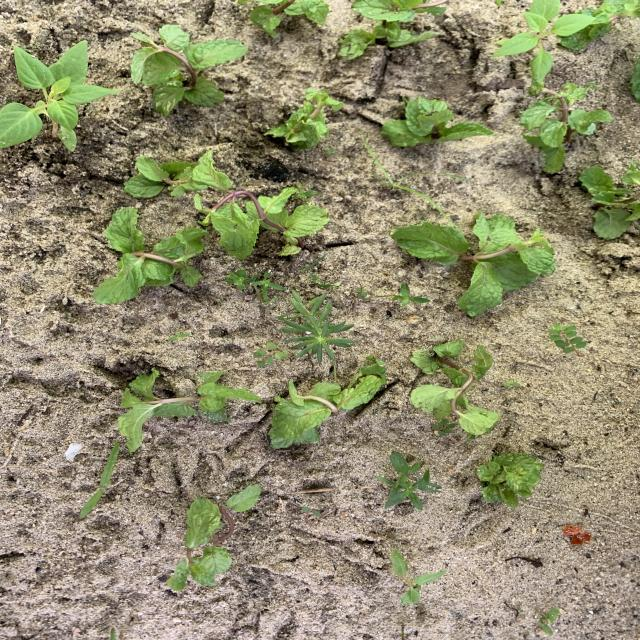crop: (392, 211, 554, 313), (192, 150, 328, 258), (119, 370, 259, 451), (94, 209, 205, 303), (131, 26, 246, 115), (271, 358, 386, 447), (168, 485, 261, 589), (411, 342, 497, 437), (522, 80, 611, 170), (340, 1, 444, 58), (381, 97, 492, 146), (580, 162, 639, 236), (267, 90, 342, 147), (559, 0, 640, 51), (478, 454, 543, 506), (125, 157, 206, 197), (237, 1, 328, 36), (631, 57, 639, 101)
weed: (0, 41, 118, 151), (494, 0, 599, 81), (280, 294, 354, 361), (379, 453, 440, 508), (79, 442, 118, 519), (364, 134, 415, 191), (391, 551, 446, 602), (225, 269, 284, 305), (549, 323, 586, 351), (255, 341, 288, 365), (393, 284, 428, 306), (538, 607, 559, 634), (432, 418, 455, 435), (294, 186, 318, 201), (424, 196, 443, 211), (302, 506, 323, 515), (169, 331, 190, 339), (355, 288, 367, 297), (324, 147, 335, 155)
